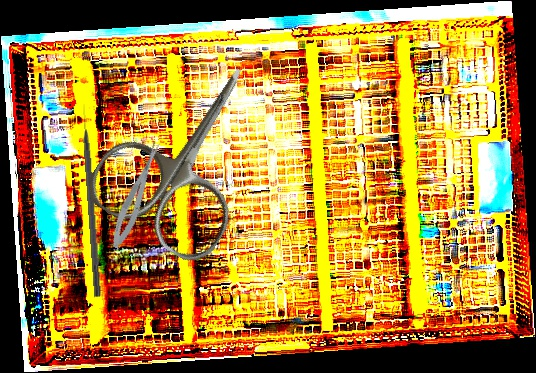Hook Surgical: (80, 103, 104, 298)
Iris Scissors: (79, 32, 302, 271)
Micro Scissor: (105, 138, 169, 252)
